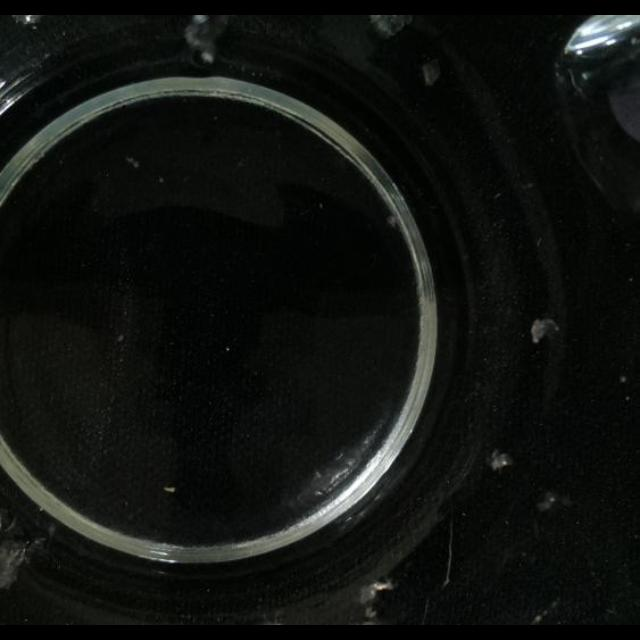Fibre: (182, 15, 230, 64), (360, 578, 396, 616), (530, 318, 560, 344), (536, 492, 568, 514), (530, 601, 556, 623), (422, 59, 441, 85), (490, 450, 512, 470), (124, 156, 140, 170), (386, 214, 399, 228)
microbeads: (532, 614, 544, 624)
